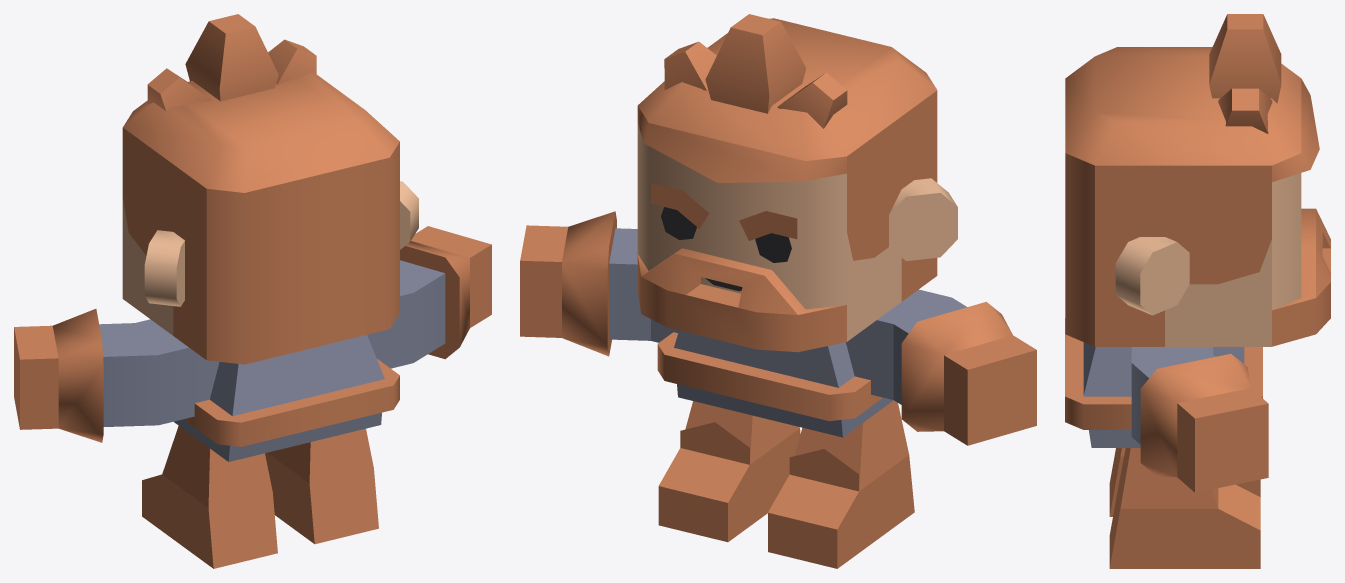
The model's file is character-human.glb.
3 renders of one model, left to right at view 1: azimuth 30°, elevation 25°; view 2: azimuth 150°, elevation 25°; view 3: azimuth 270°, elevation 25°, orthographic. The views are drawn at different scales.
Parts seen in each view (by area): view 1: head, arm-left, body, leg-left, arm-right, leg-right; view 2: head, arm-left, leg-left, body, arm-right, leg-right; view 3: head, arm-right, leg-right, body, leg-left.
Part boxes in pixels (bbox=[...]): head: bbox=[122, 14, 418, 364]; arm-left: bbox=[14, 309, 219, 442]; body: bbox=[174, 335, 399, 461]; leg-left: bbox=[142, 426, 277, 568]; arm-right: bbox=[367, 226, 491, 368]; leg-right: bbox=[265, 428, 378, 544]; head: bbox=[637, 14, 957, 352]; arm-left: bbox=[846, 289, 1036, 445]; leg-left: bbox=[768, 400, 914, 568]; body: bbox=[657, 330, 893, 437]; arm-right: bbox=[520, 211, 678, 356]; leg-right: bbox=[658, 401, 800, 542]; head: bbox=[1065, 14, 1330, 346]; arm-right: bbox=[1131, 347, 1268, 492]; leg-right: bbox=[1109, 448, 1260, 568]; body: bbox=[1065, 318, 1262, 447]; leg-left: bbox=[1109, 448, 1260, 516].
Bounding box in the file's own units: 0.7806 × 0.7553 × 0.3605.
